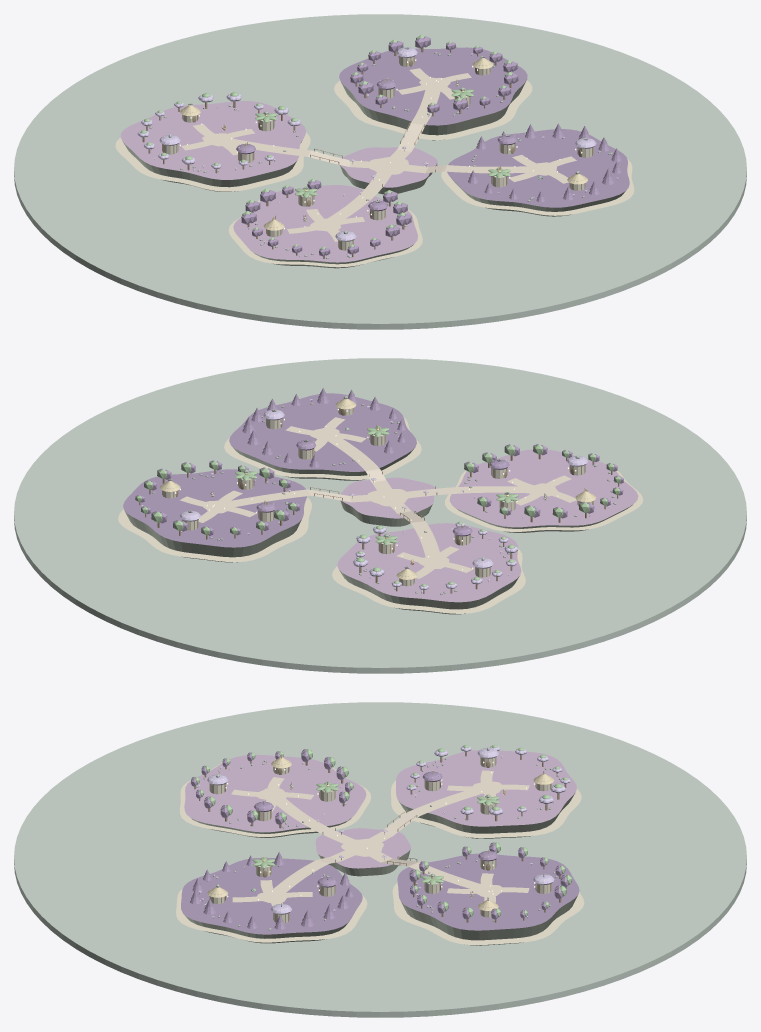
The model's file is grade5-terrain.glb.
3 views of the same model, one above another, from view 1: azimuth 30°, elevation 25°; view 2: azimuth 150°, elevation 25°; view 3: azimuth 270°, elevation 25° (orthographic).
Parts seen in each view (by area): view 1: Nature_water, Walk_Nature_grass, Walk_Nature_deep, Walk_Nature_path, Nature_deep, Nature_sand, Nature_soil, Nature_cream, Nature_flower, Nature_leaf, Nature_wood, Nature_reed; view 2: Nature_water, Walk_Nature_grass, Walk_Nature_deep, Walk_Nature_path, Nature_sand, Nature_soil, Nature_deep, Nature_leaf, Nature_cream, Nature_flower, Nature_wood, Nature_reed; view 3: Nature_water, Walk_Nature_grass, Walk_Nature_deep, Walk_Nature_path, Nature_sand, Nature_soil, Nature_deep, Nature_leaf, Nature_cream, Nature_flower, Nature_wood, Nature_reed.
Boxes of the visible parts, box(x1,y1,x2,y2) form: Nature_water: box(14, 14, 746, 329); Walk_Nature_grass: box(120, 101, 437, 262); Walk_Nature_deep: box(339, 47, 629, 207); Walk_Nature_path: box(181, 68, 576, 241); Nature_deep: box(151, 36, 621, 256); Nature_sand: box(115, 80, 634, 267); Nature_soil: box(123, 80, 625, 268); Nature_cream: box(162, 48, 593, 250); Nature_flower: box(137, 47, 618, 255); Nature_leaf: box(140, 34, 586, 249); Nature_wood: box(142, 47, 593, 258); Nature_reed: box(180, 57, 587, 230); Nature_water: box(14, 358, 746, 673); Walk_Nature_grass: box(337, 449, 638, 602); Walk_Nature_deep: box(123, 393, 416, 547); Walk_Nature_path: box(180, 417, 576, 578); Nature_sand: box(118, 417, 643, 613); Nature_soil: box(124, 446, 632, 614); Nature_deep: box(135, 388, 623, 593); Nature_leaf: box(136, 409, 620, 586); Nature_cream: box(162, 401, 593, 586); Nature_flower: box(141, 399, 614, 591); Nature_wood: box(139, 408, 619, 593); Nature_reed: box(159, 398, 596, 579); Nature_water: box(14, 702, 746, 1017); Walk_Nature_grass: box(184, 750, 576, 868); Walk_Nature_deep: box(181, 853, 579, 934); Walk_Nature_path: box(231, 770, 529, 906); Nature_sand: box(176, 762, 584, 945); Nature_soil: box(183, 793, 577, 945); Nature_deep: box(190, 749, 568, 929); Nature_leaf: box(194, 744, 571, 917); Nature_cream: box(210, 749, 551, 923); Nature_flower: box(197, 745, 570, 917); Nature_wood: box(194, 752, 566, 922); Nature_reed: box(207, 757, 554, 910).
Bounding box in the file's own units: 170 × 10.98 × 170.
